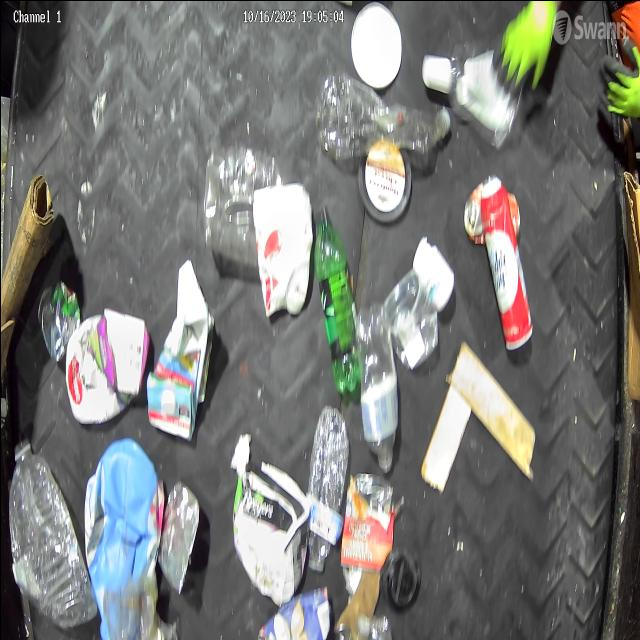can: (479, 176, 534, 351), (338, 474, 396, 576), (462, 178, 522, 246), (36, 280, 80, 363)
milk_jug: (145, 256, 216, 442), (64, 304, 150, 426)
non_white_jug: (83, 434, 165, 640)
plastic_bottle: (7, 432, 98, 630), (314, 68, 450, 166), (305, 401, 350, 573), (356, 299, 400, 474)
